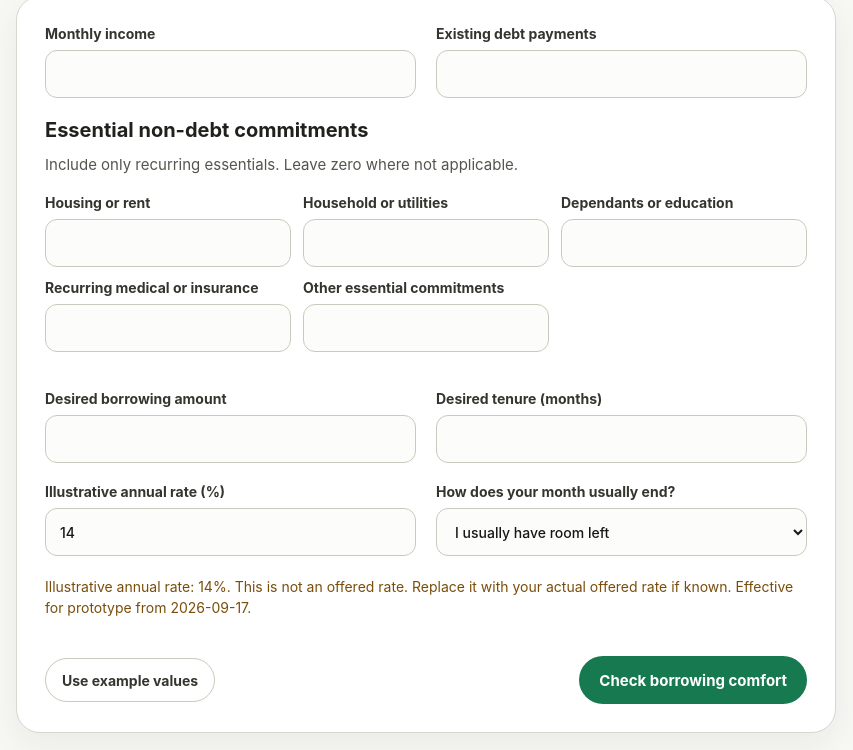
LegacyBorrowBetterPage (Track 1.0; superseded 1.1A prototype code kept unreachable) › enables continuation only when Track 1.1A=true and Track 1.1B=true
This screenshot has width=853, height=750.
(page scrolled)
Expected: the button "Check borrowing comfort" is enabled, [579, 656, 807, 704]
Click the button "Use example values" at x=130, y=680, box [45, 658, 215, 702]
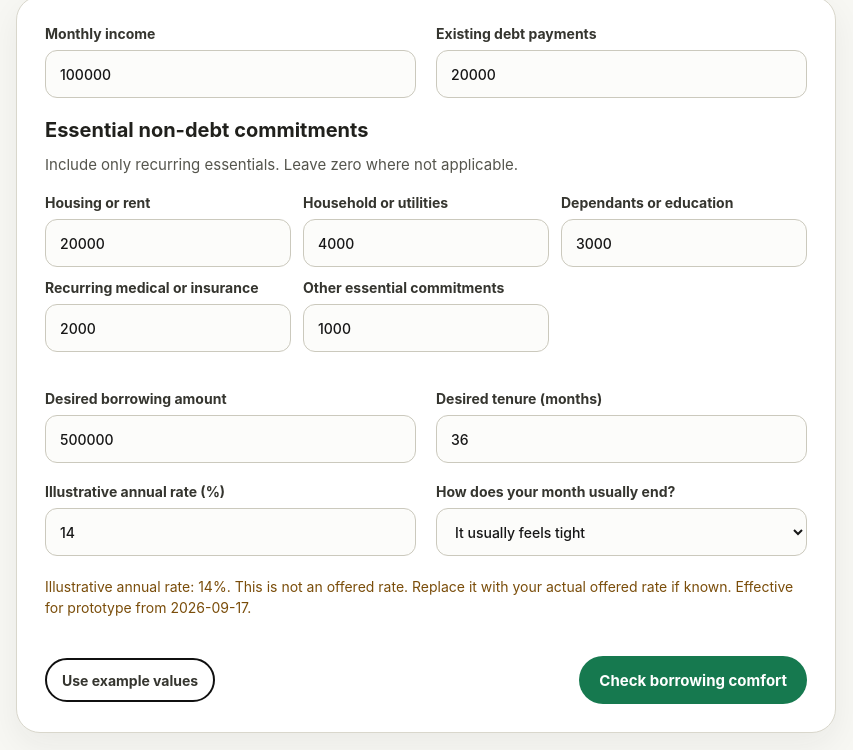
Click the button "Check borrowing comfort" at x=693, y=680, box [579, 656, 807, 704]
(page scrolled)
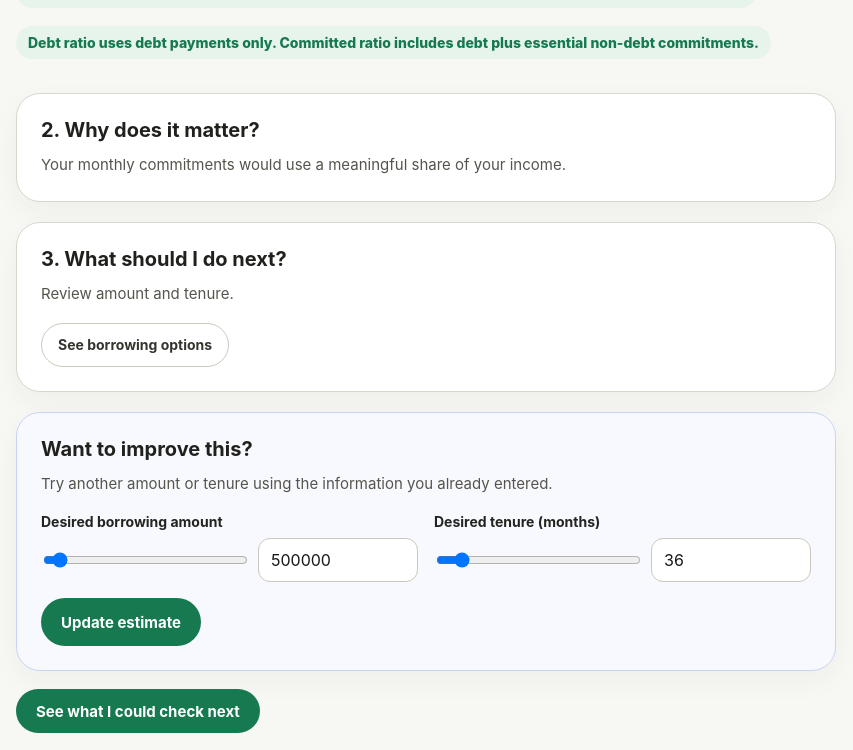
Click the button "See what I could check next" at x=138, y=711, box [16, 689, 260, 733]
(page scrolled)
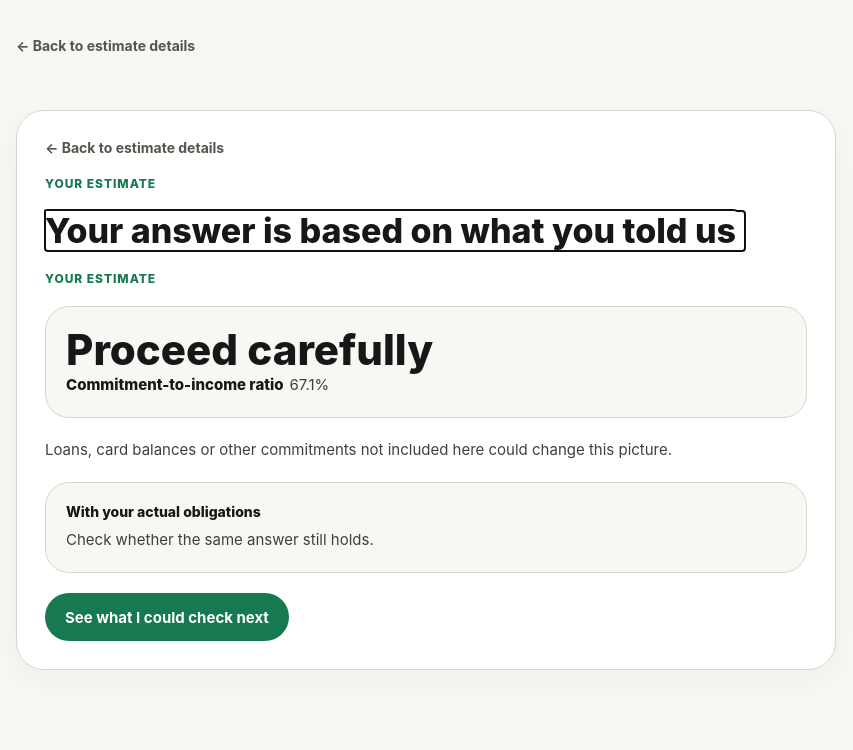
Now the heading "Your answer is based on what you told us" is shown, box [45, 211, 745, 251]
